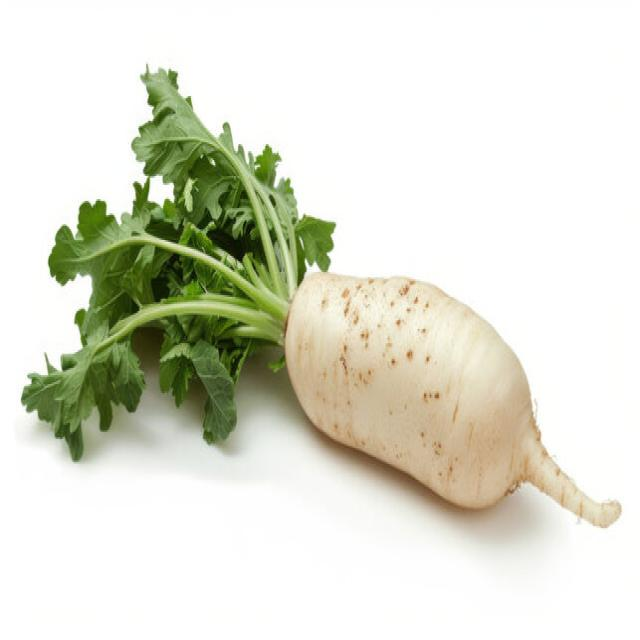Potato: (21, 62, 622, 528)
Radish: (20, 62, 335, 460), (283, 268, 621, 528)
